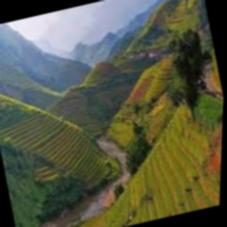Bench: (17, 100, 118, 192)
